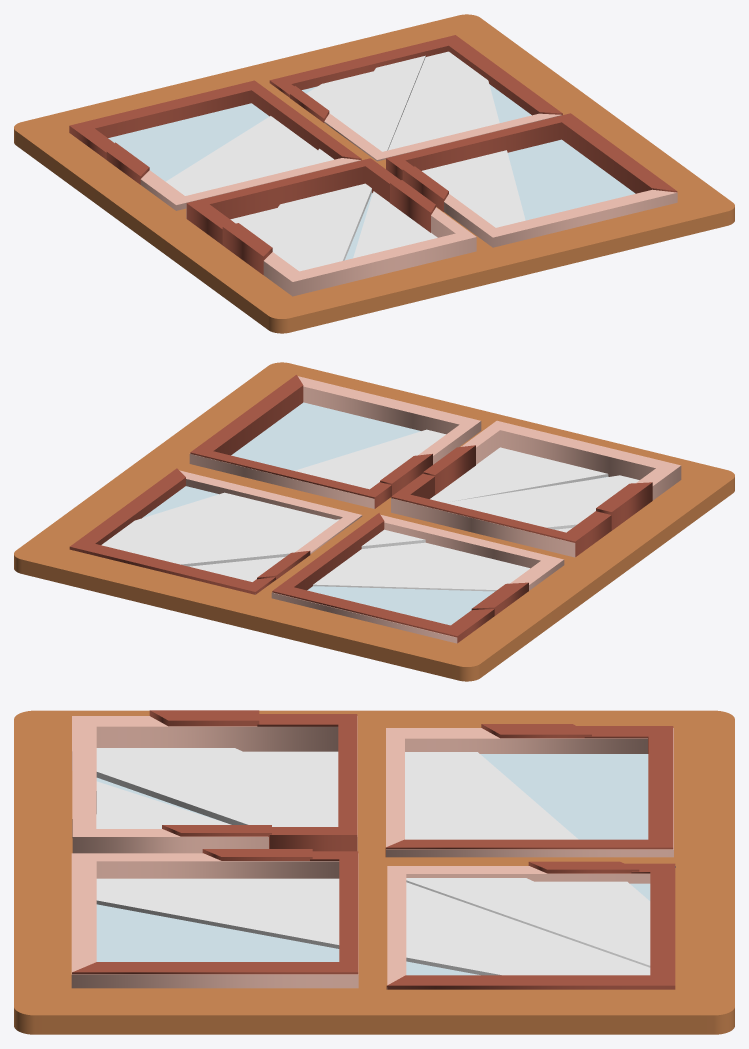
File: emoji_u1fa9f.glb
3 views of the same model, one above another, from view 1: azimuth 30°, elevation 25°; view 2: azimuth 150°, elevation 25°; view 3: azimuth 270°, elevation 25° (orthographic). The views are drawn at different scales.
Parts seen in each view (by area): view 1: emoji_u1fa9f; view 2: emoji_u1fa9f; view 3: emoji_u1fa9f.
Part boxes in pixels (box(x1,y1,x2,y2)): emoji_u1fa9f: box(14, 14, 734, 333); emoji_u1fa9f: box(14, 362, 734, 681); emoji_u1fa9f: box(14, 710, 734, 1034).
Bounding box in the file's own units: 0.0337 × 0.0036 × 0.0337.
